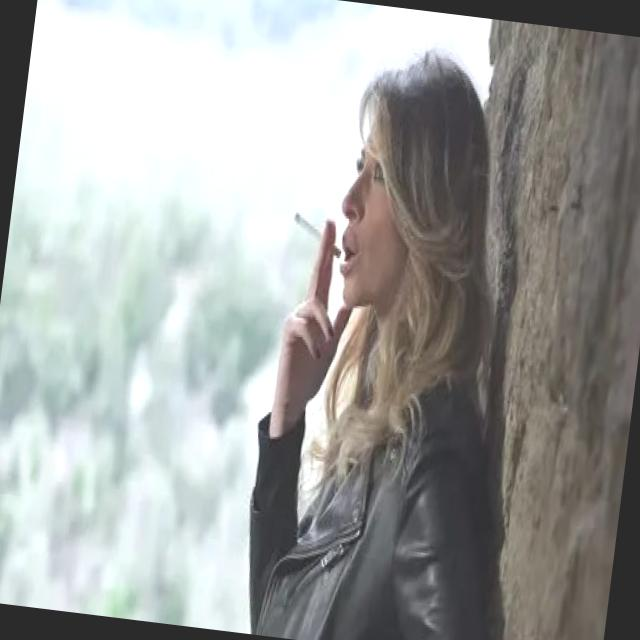cigarette: (289, 212, 346, 265)
